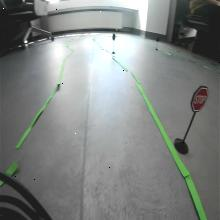stop: (190, 85, 209, 113)
